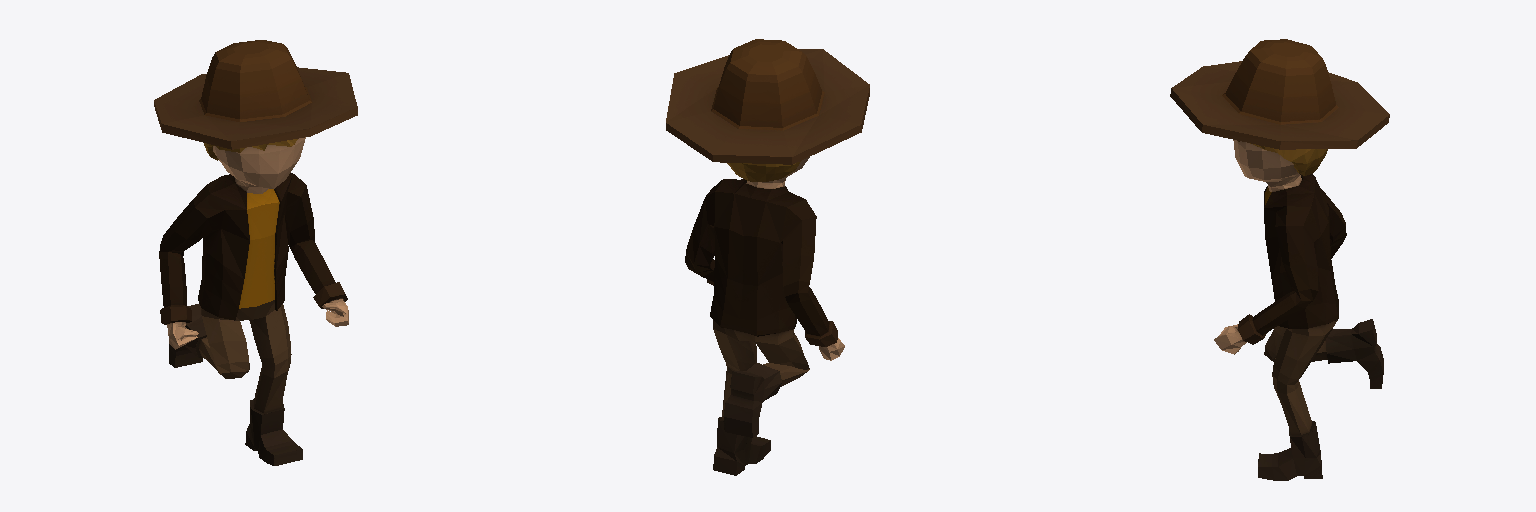
The picture shows the model from 3 angles: view 1: azimuth 30°, elevation 25°; view 2: azimuth 150°, elevation 25°; view 3: azimuth 270°, elevation 25°; orthographic projection.
Visible parts, largest first — view 1: Character_Cube.009; view 2: Character_Cube.009; view 3: Character_Cube.009.
Part boxes in pixels (x1,y1,x2,y2): Character_Cube.009: (154,40,357,465); Character_Cube.009: (666,39,869,475); Character_Cube.009: (1170,39,1389,480).
Size of the model in its own units: 7.15 by 15.11 by 7.26.
1 materials, 1 textured.